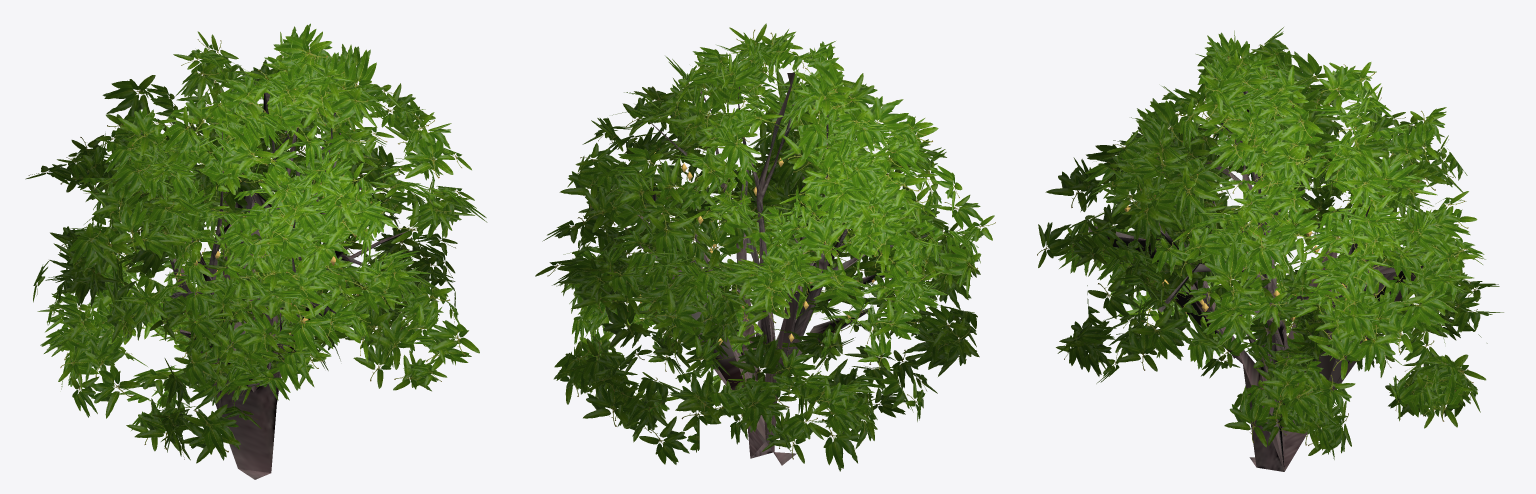
Rendered from tree_lod0.glb.
3 renders of one model, left to right at view 1: azimuth 30°, elevation 25°; view 2: azimuth 150°, elevation 25°; view 3: azimuth 270°, elevation 25°, orthographic. The views are drawn at different scales.
Visible parts, largest first — view 1: tree_lod0_mesh; view 2: tree_lod0_mesh; view 3: tree_lod0_mesh.
Part boxes in pixels (x1,y1,x2,y2): tree_lod0_mesh: [25, 23, 487, 479]; tree_lod0_mesh: [535, 23, 995, 471]; tree_lod0_mesh: [1037, 27, 1503, 471].
Size of the model in its own units: 7.01 by 6.96 by 7.09.
3 materials, 2 textured.
